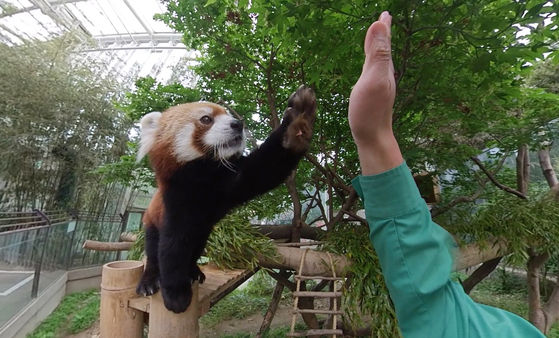redPanda: (121, 67, 328, 306)
